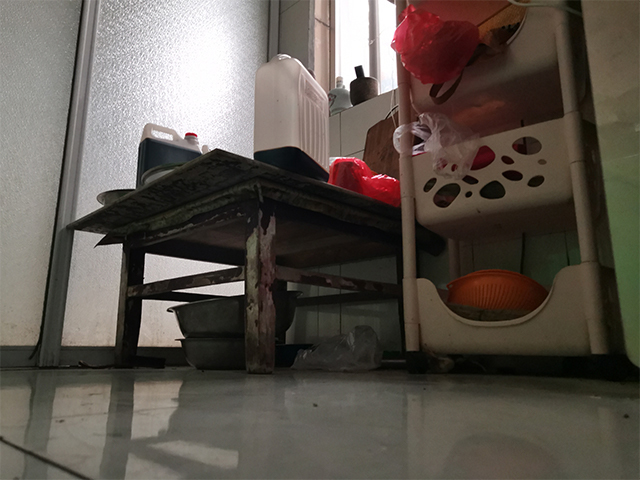table: (65, 146, 404, 376)
